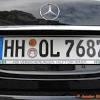6: (76, 39, 85, 58)
7: (64, 39, 74, 58), (96, 40, 100, 58)
8: (86, 39, 95, 58)
H: (15, 39, 26, 58), (4, 39, 15, 58)
L: (49, 39, 60, 57)
O: (39, 39, 49, 58)
